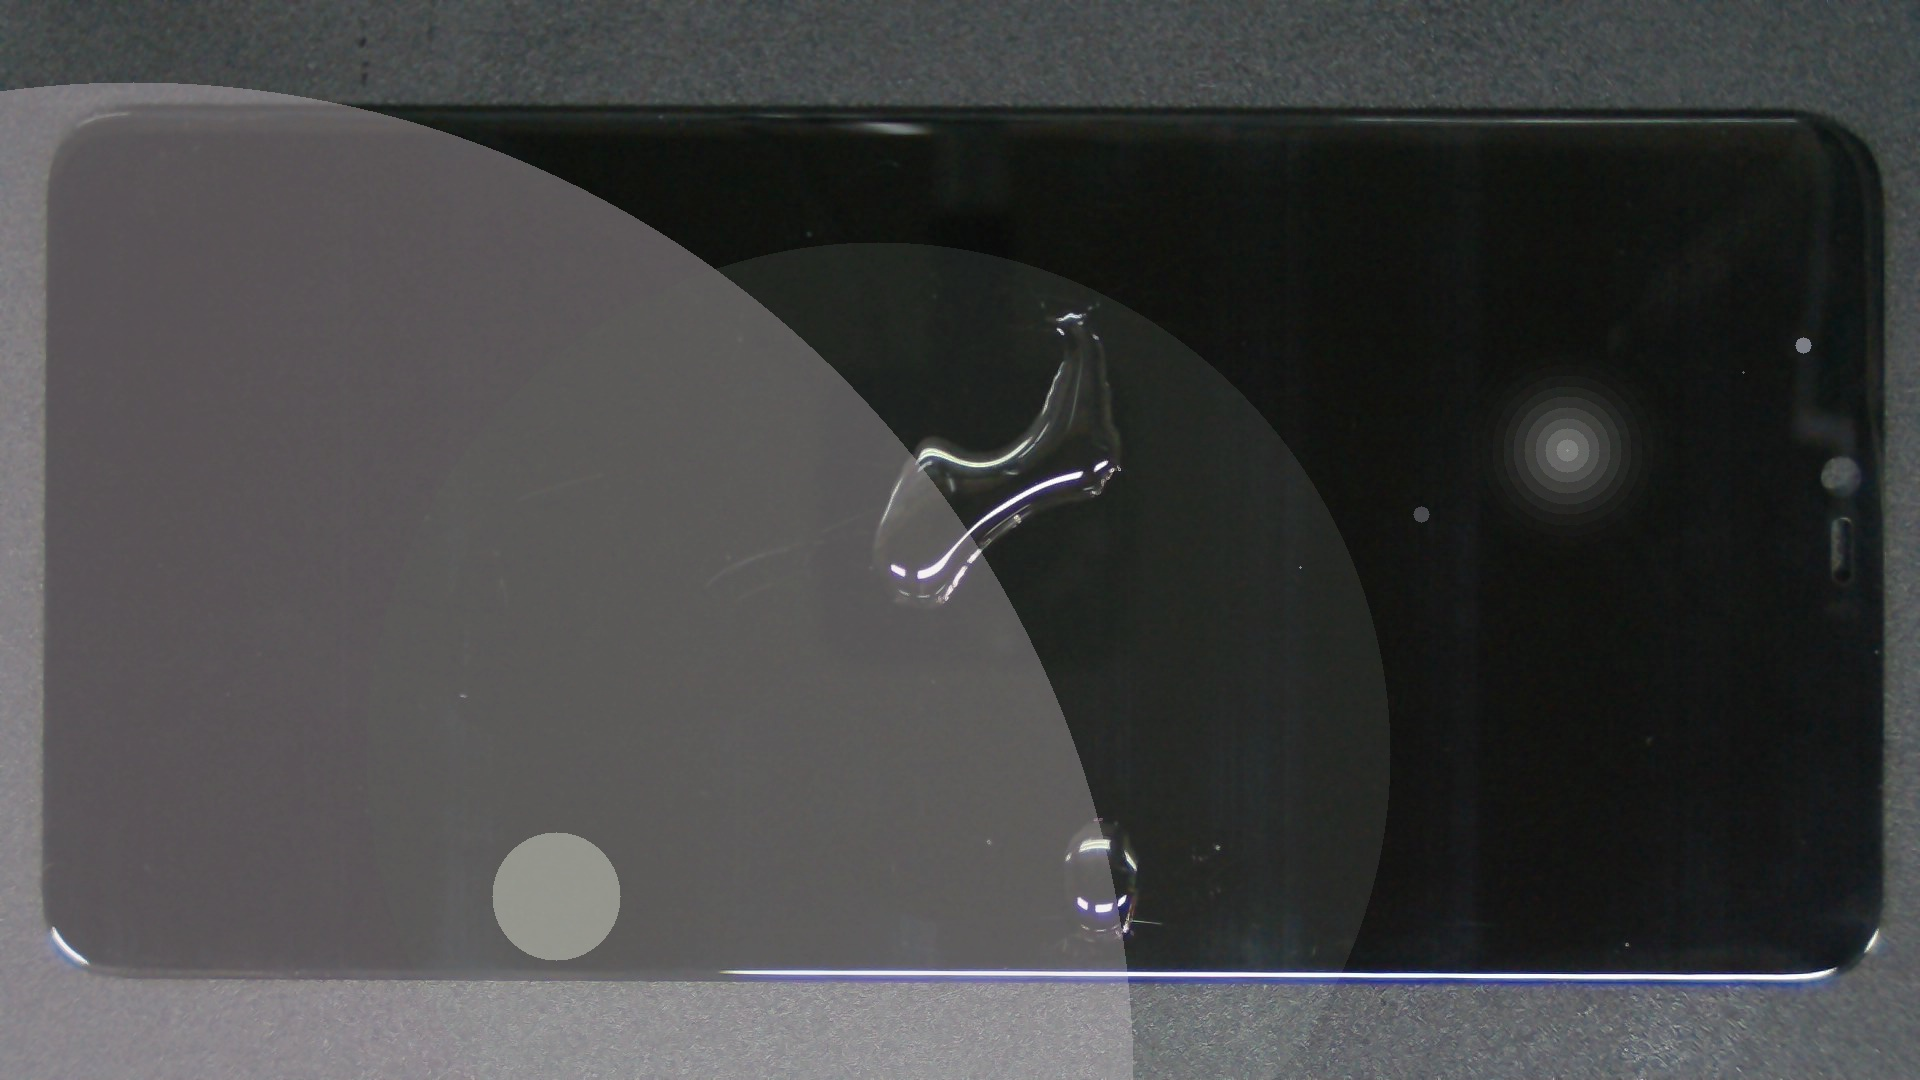oil: (549, 407, 1644, 1080), (535, 156, 1606, 468)
